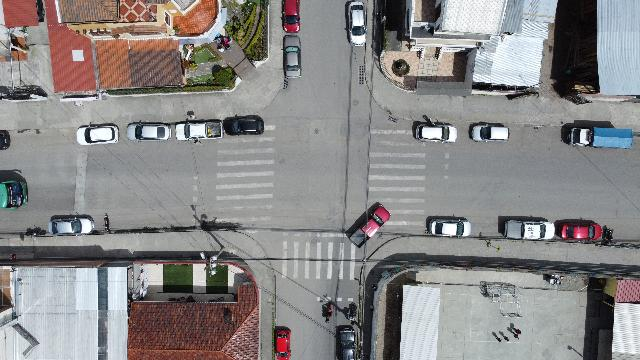Vehiculo: (347, 204, 391, 248), (412, 115, 458, 143), (504, 218, 554, 240), (76, 122, 120, 146), (175, 120, 223, 142), (425, 215, 471, 237), (48, 214, 94, 236), (554, 219, 602, 240), (346, 1, 366, 47), (223, 114, 264, 136), (282, 34, 302, 78), (127, 121, 171, 141), (469, 122, 509, 142), (338, 328, 357, 360), (282, 1, 300, 34), (275, 326, 291, 359), (568, 128, 592, 146), (0, 130, 10, 150)
